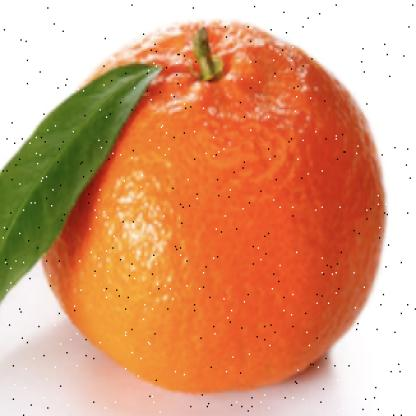fresh: (35, 19, 385, 394)
